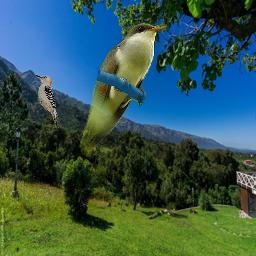Cuckoo: (78, 22, 169, 155)
Woodpecker: (34, 72, 60, 129)
